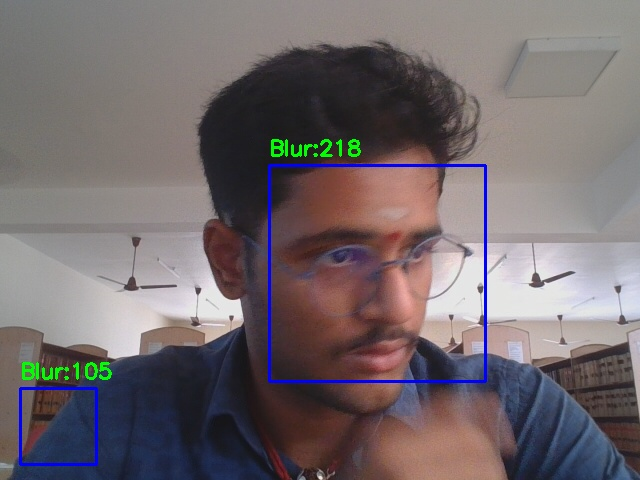real: (269, 165, 485, 381), (20, 388, 96, 464)
